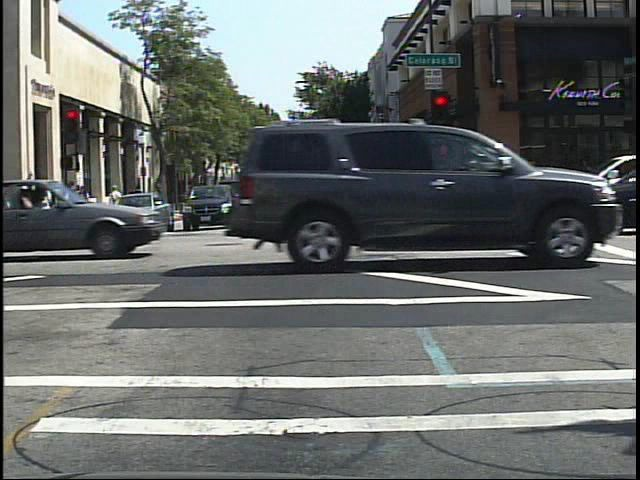person: (106, 181, 127, 228)
